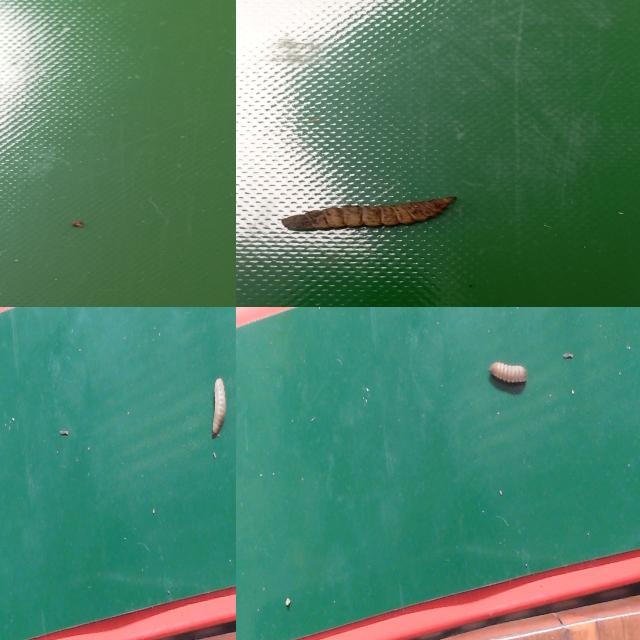Maggot: (281, 198, 458, 234), (488, 361, 528, 396), (212, 379, 230, 440)
